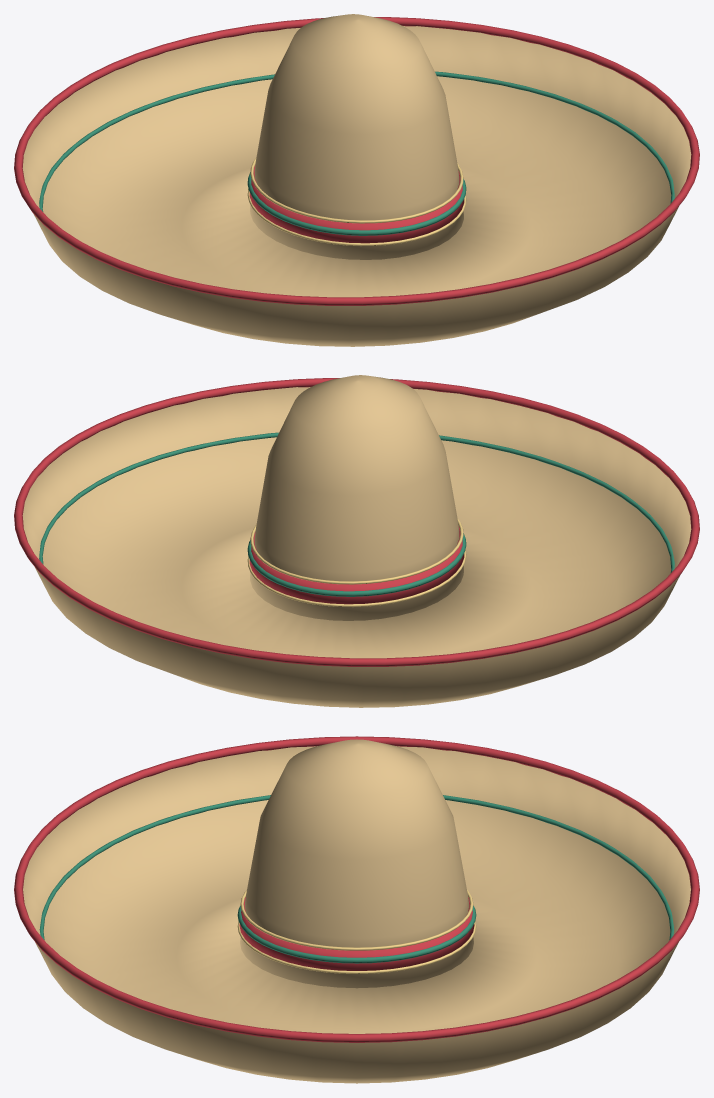
The model's file is sombrero.glb.
3 views of the same model, one above another, from view 1: azimuth 30°, elevation 25°; view 2: azimuth 150°, elevation 25°; view 3: azimuth 270°, elevation 25° (orthographic). The views are drawn at different scales.
Visible parts, largest first — view 1: Sombrero_Broad_Upturned_Brim, Sombrero_Tall_Hollow_Crown, Sombrero_Red_Outer_Rim, Sombrero_Connected_Red_Hatband, Sombrero_Green_Brim_Accent, Sombrero_Hatband_Trim.001, Sombrero_Hatband_Trim.002, Sombrero_Hatband_Trim; view 2: Sombrero_Broad_Upturned_Brim, Sombrero_Tall_Hollow_Crown, Sombrero_Red_Outer_Rim, Sombrero_Connected_Red_Hatband, Sombrero_Green_Brim_Accent, Sombrero_Hatband_Trim.001, Sombrero_Hatband_Trim.002, Sombrero_Hatband_Trim; view 3: Sombrero_Broad_Upturned_Brim, Sombrero_Tall_Hollow_Crown, Sombrero_Red_Outer_Rim, Sombrero_Connected_Red_Hatband, Sombrero_Green_Brim_Accent, Sombrero_Hatband_Trim.001, Sombrero_Hatband_Trim.002, Sombrero_Hatband_Trim.
Boxes of the visible parts, x1,y1,x2,y2 form: Sombrero_Broad_Upturned_Brim: (22,26,691,346); Sombrero_Tall_Hollow_Crown: (250,14,463,259); Sombrero_Red_Outer_Rim: (14,17,699,305); Sombrero_Connected_Red_Hatband: (249,165,464,243); Sombrero_Green_Brim_Accent: (39,71,674,211); Sombrero_Hatband_Trim.001: (247,172,466,235); Sombrero_Hatband_Trim.002: (250,157,463,223); Sombrero_Hatband_Trim: (247,188,466,245); Sombrero_Broad_Upturned_Brim: (22,387,691,707); Sombrero_Tall_Hollow_Crown: (250,375,463,620); Sombrero_Red_Outer_Rim: (14,378,699,666); Sombrero_Connected_Red_Hatband: (249,526,464,604); Sombrero_Green_Brim_Accent: (39,432,674,572); Sombrero_Hatband_Trim.001: (247,533,466,596); Sombrero_Hatband_Trim.002: (250,518,463,584); Sombrero_Hatband_Trim: (247,549,466,606); Sombrero_Broad_Upturned_Brim: (23,746,690,1083); Sombrero_Tall_Hollow_Crown: (240,739,473,988); Sombrero_Red_Outer_Rim: (14,736,699,1042); Sombrero_Connected_Red_Hatband: (239,897,474,970); Sombrero_Green_Brim_Accent: (39,795,674,939); Sombrero_Hatband_Trim.001: (237,905,476,963); Sombrero_Hatband_Trim.002: (240,890,473,950); Sombrero_Hatband_Trim: (237,921,476,973).
Size of the model in its own units: 0.79 by 0.275 by 0.76.
